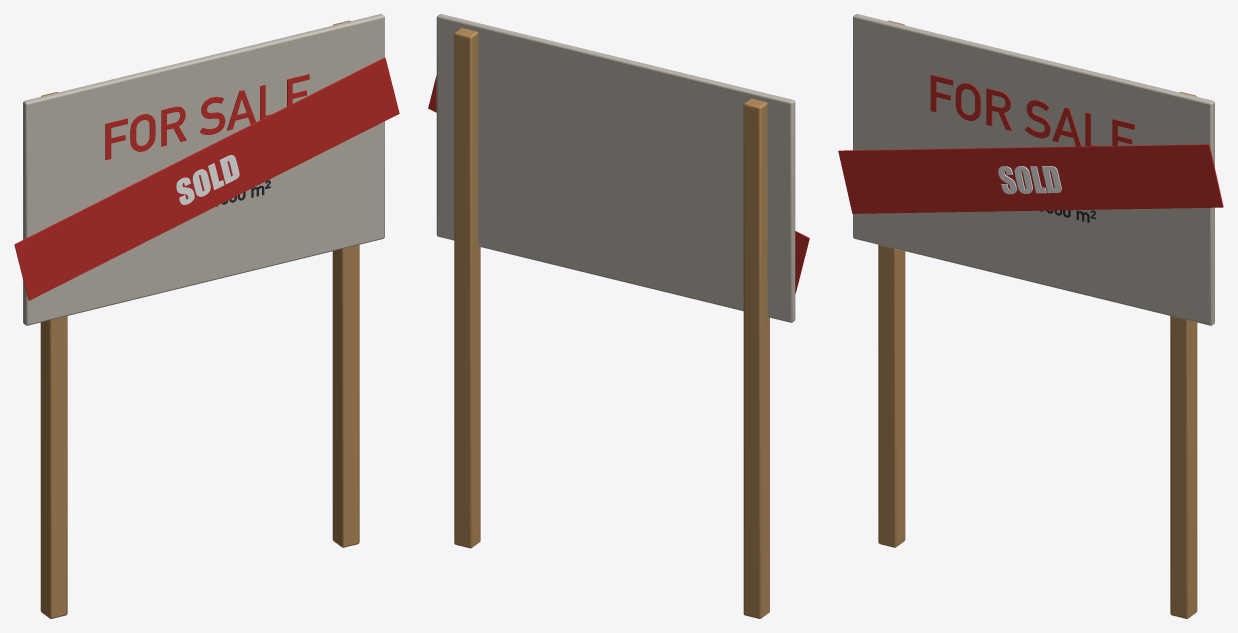
File: sale_sign.fbx
3 views of the same model, side by side, from view 1: azimuth 30°, elevation 25°; view 2: azimuth 150°, elevation 25°; view 3: azimuth 330°, elevation 25° (orthographic).
Visible parts, largest first — view 1: sale_sign; view 2: sale_sign; view 3: sale_sign.
Boxes of the visible parts, box(x1,y1,x2,y2) form: sale_sign: box(14, 14, 399, 618); sale_sign: box(428, 14, 809, 618); sale_sign: box(838, 14, 1223, 618).
Size of the model in its own units: 1.71 by 2.22 by 0.102.
